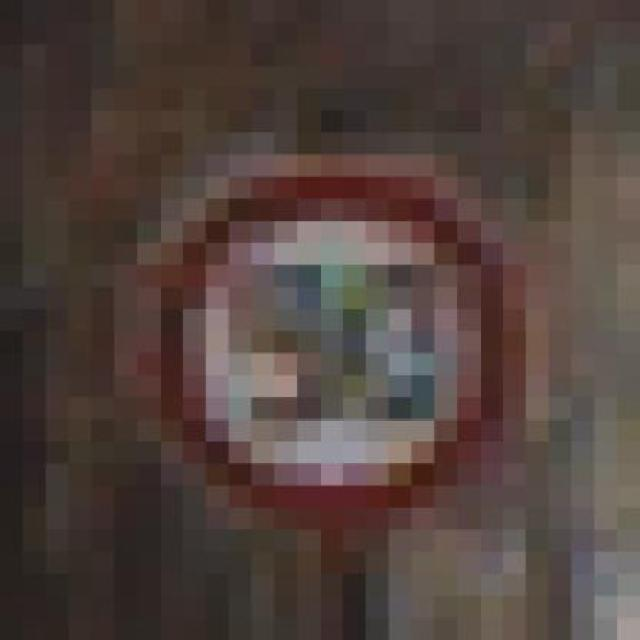50 mph speed limit: (139, 130, 552, 548)
